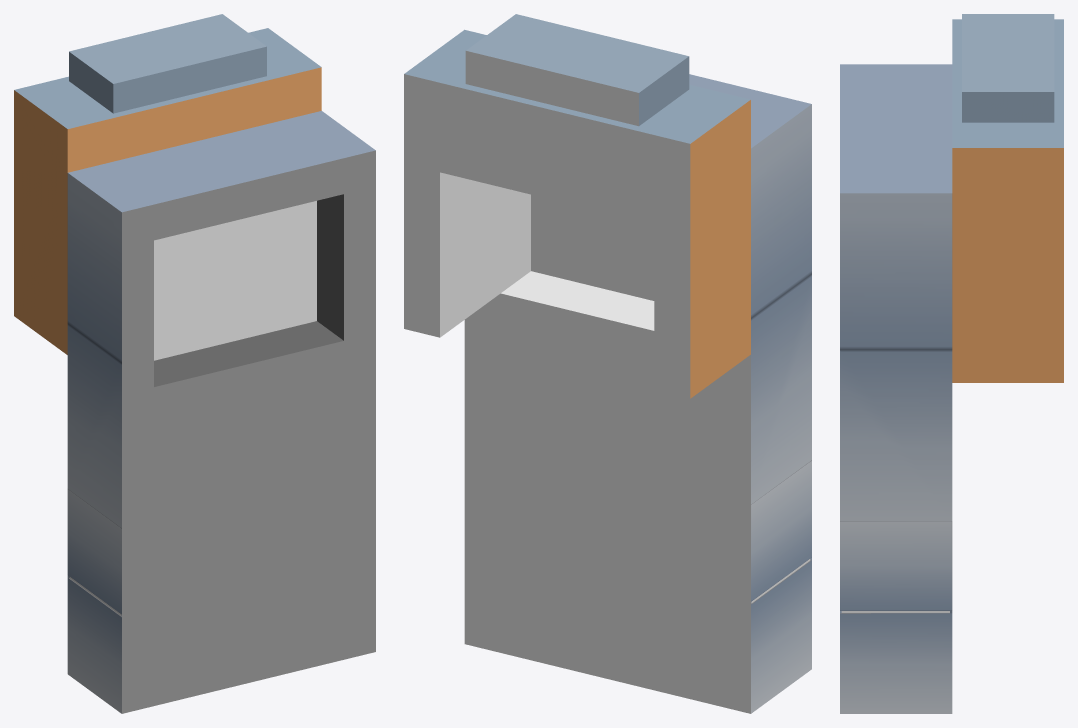
File: 0_1_Tunnel_1.fbx
3 renders of one model, left to right at view 1: azimuth 30°, elevation 25°; view 2: azimuth 150°, elevation 25°; view 3: azimuth 270°, elevation 25°, orthographic. The views are drawn at different scales.
Visible parts, largest first — view 1: 0_1_Tunnel_1; view 2: 0_1_Tunnel_1; view 3: 0_1_Tunnel_1.
Part boxes in pixels (x1,y1,x2,y2): 0_1_Tunnel_1: (14,14,375,713); 0_1_Tunnel_1: (404,14,811,713); 0_1_Tunnel_1: (840,14,1063,713).
Bounding box in the file's own units: 1016 × 2197 × 747.
